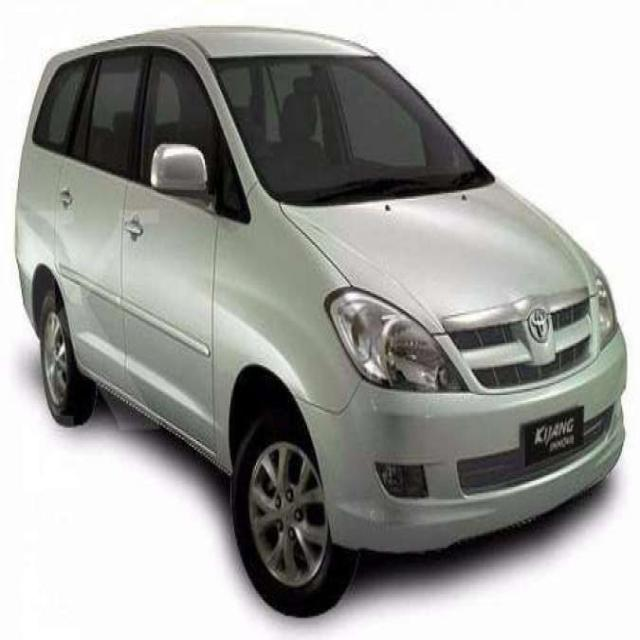light_vehicle: (14, 22, 628, 617)
